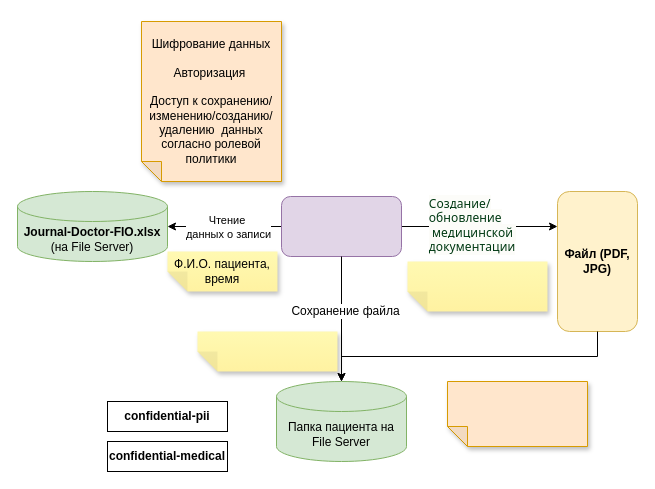
Some shapes in this 655 by 489 pixel diagram are drawn without their labels. Here are the shapes that lost their labels. From the top down, the centre of each, then its label:
At (x=341, y=226): "Врач".
At (x=478, y=287): "Диагноз, анализы, заключение".
At (x=268, y=352): "Медицинская документация".
At (x=518, y=415): "Хранение данных в защищенной БД".
